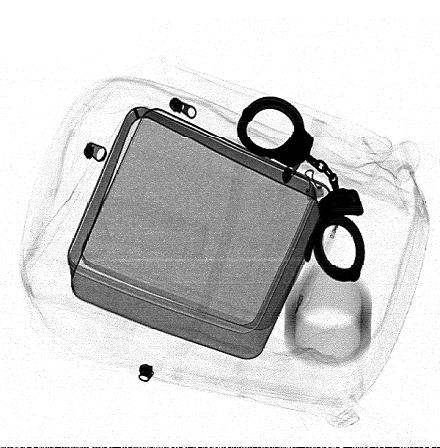HandCuffs: (235, 96, 366, 285)
